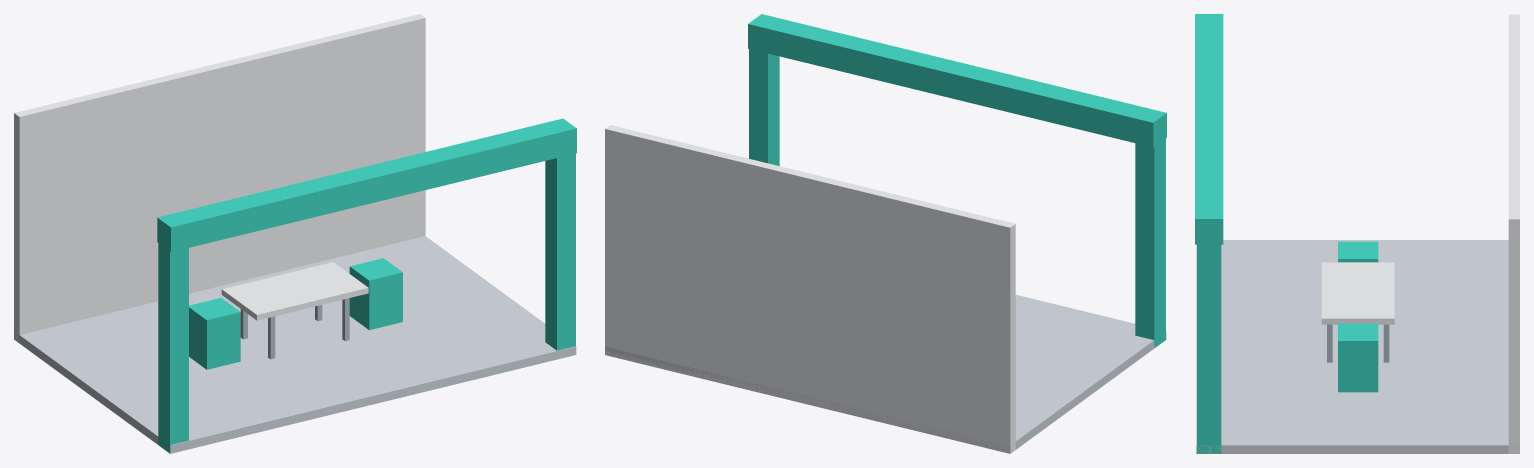
3 renders of one model, left to right at view 1: azimuth 30°, elevation 25°; view 2: azimuth 150°, elevation 25°; view 3: azimuth 270°, elevation 25°, orthographic. The views are drawn at different scales.
Parts seen in each view (by area): view 1: Exhibition Booth Concept; view 2: Exhibition Booth Concept; view 3: Exhibition Booth Concept.
Boxes of the visible parts, x1,y1,x2,y2 form: Exhibition Booth Concept: (14,14,576,453); Exhibition Booth Concept: (605,14,1166,453); Exhibition Booth Concept: (1195,14,1519,453).
Size of the model in its own units: 6 by 3.2 by 4.02.
